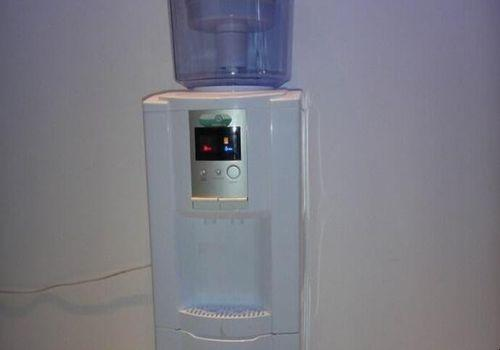Dispenser: (141, 0, 306, 349)
